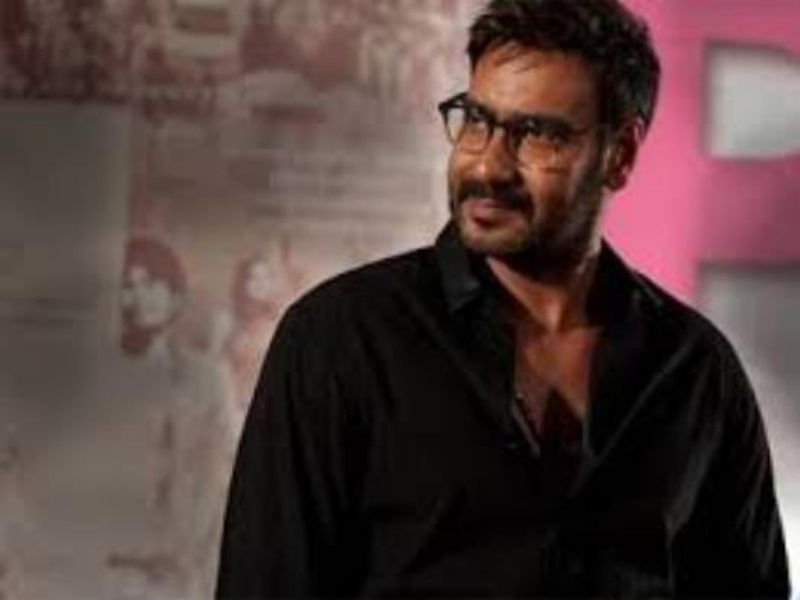TsisyArotava: (429, 9, 662, 274)
